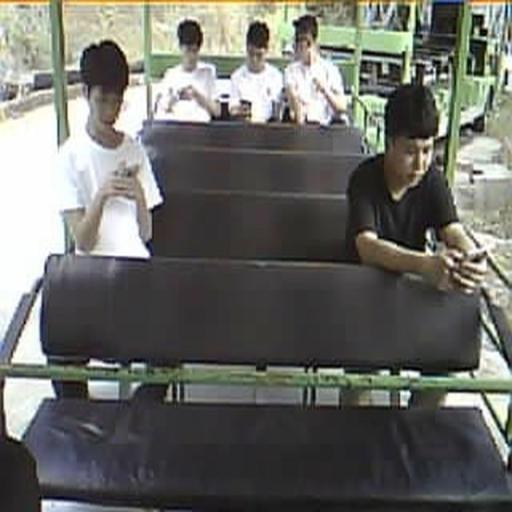persona: (345, 82, 489, 296), (56, 39, 164, 259), (283, 14, 349, 128), (154, 18, 220, 122), (228, 20, 284, 123)
